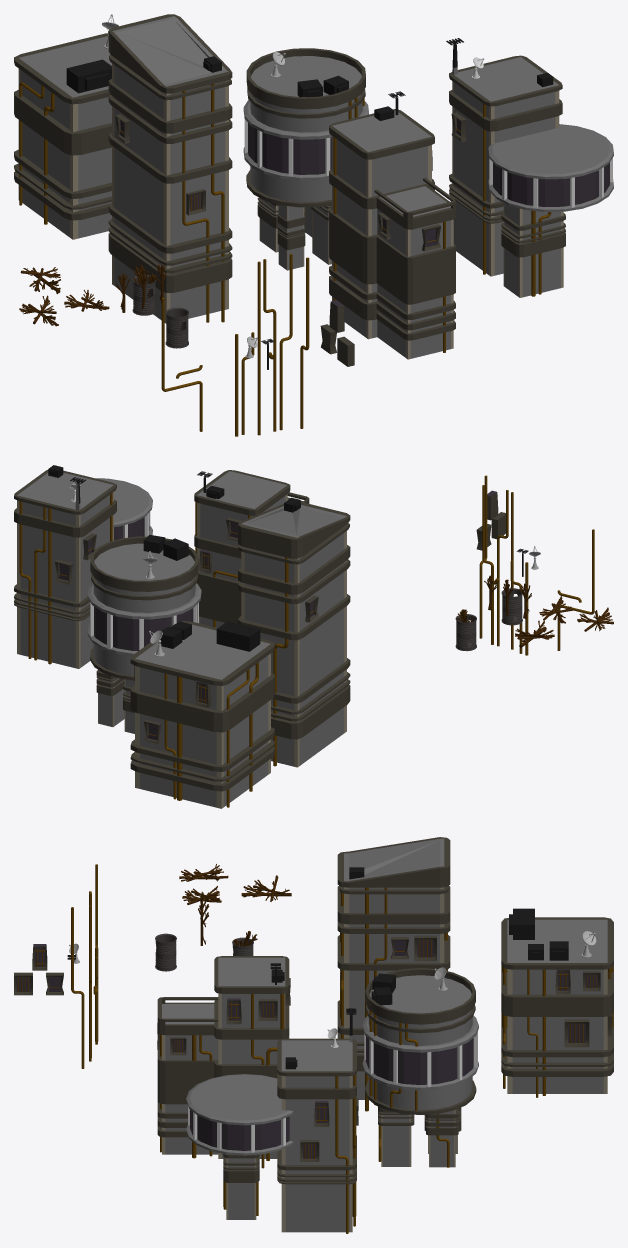
Rendered from 48_stick_pile2.fbx.
The picture shows the model from 3 angles, top to bottom: view 1: azimuth 30°, elevation 25°; view 2: azimuth 150°, elevation 25°; view 3: azimuth 270°, elevation 25°; orthographic projection. The views are drawn at different scales.
Visible parts, largest first — view 1: polySurface3, polySurface4, polySurface6, pCube3, polySurface7, pCylinder85, pCylinder1, pCube2, pCylinder86, pCube32, pCube6, pCube30 (+7 smaller); view 2: polySurface3, polySurface4, pCube3, pCylinder85, polySurface6, pCylinder86, pCylinder1, pCube31, pCube6, pPipe4, pPipe5, pCylinder63 (+6 smaller); view 3: polySurface4, polySurface3, pCube3, pCylinder85, polySurface6, pCylinder1, polySurface7, pCylinder86, pCube2, pCube29, pCube31, pPipe5 (+4 smaller).
Part boxes in pixels (bbox=[...]): polySurface3: bbox=[108, 14, 232, 323]; polySurface4: bbox=[14, 33, 111, 239]; polySurface6: bbox=[329, 109, 434, 339]; pCube3: bbox=[446, 38, 562, 276]; polySurface7: bbox=[374, 177, 455, 359]; pCylinder85: bbox=[246, 48, 365, 207]; pCylinder1: bbox=[488, 124, 613, 211]; pCube2: bbox=[501, 203, 565, 297]; pCylinder86: bbox=[243, 99, 368, 180]; pCube32: bbox=[277, 204, 305, 270]; pCube6: bbox=[66, 59, 111, 93]; pCube30: bbox=[257, 197, 305, 252]; polySurface3: bbox=[238, 502, 350, 767]; polySurface4: bbox=[130, 621, 274, 808]; pCube3: bbox=[14, 465, 116, 668]; pCylinder85: bbox=[90, 536, 198, 680]; polySurface6: bbox=[194, 470, 290, 627]; pCylinder86: bbox=[87, 583, 201, 655]; pCylinder1: bbox=[96, 478, 152, 540]; pCube31: bbox=[96, 670, 124, 726]; pCube6: bbox=[216, 621, 260, 651]; pPipe4: bbox=[455, 614, 476, 651]; pPipe5: bbox=[501, 588, 522, 625]; pCylinder63: bbox=[273, 557, 288, 766]; polySurface4: bbox=[501, 917, 613, 1093]; polySurface3: bbox=[337, 837, 450, 1099]; pCube3: bbox=[277, 1008, 356, 1232]; pCylinder85: bbox=[365, 968, 476, 1114]; polySurface6: bbox=[214, 956, 289, 1158]; pCylinder1: bbox=[186, 1074, 293, 1155]; polySurface7: bbox=[157, 997, 218, 1154]; pCylinder86: bbox=[362, 1015, 478, 1090]; pCube2: bbox=[223, 1154, 259, 1219]; pCube29: bbox=[378, 1106, 414, 1166]; pCube31: bbox=[426, 1108, 458, 1167]; pPipe5: bbox=[155, 933, 176, 971].
Bounding box in the file's own units: 29.15 × 12.26 × 27.38.
